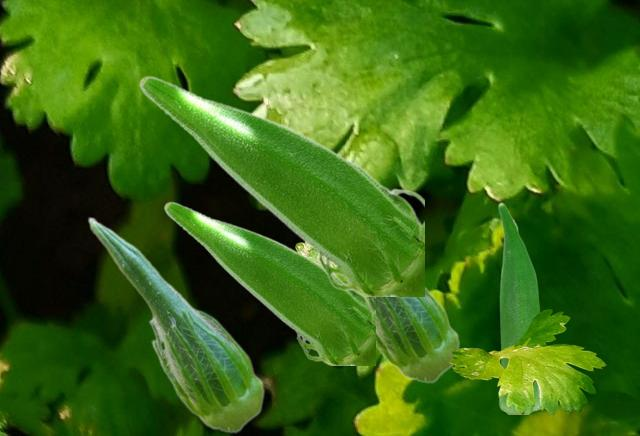okra: (138, 75, 423, 295), (87, 216, 264, 432), (163, 201, 374, 364), (366, 284, 459, 382), (498, 202, 539, 413)
